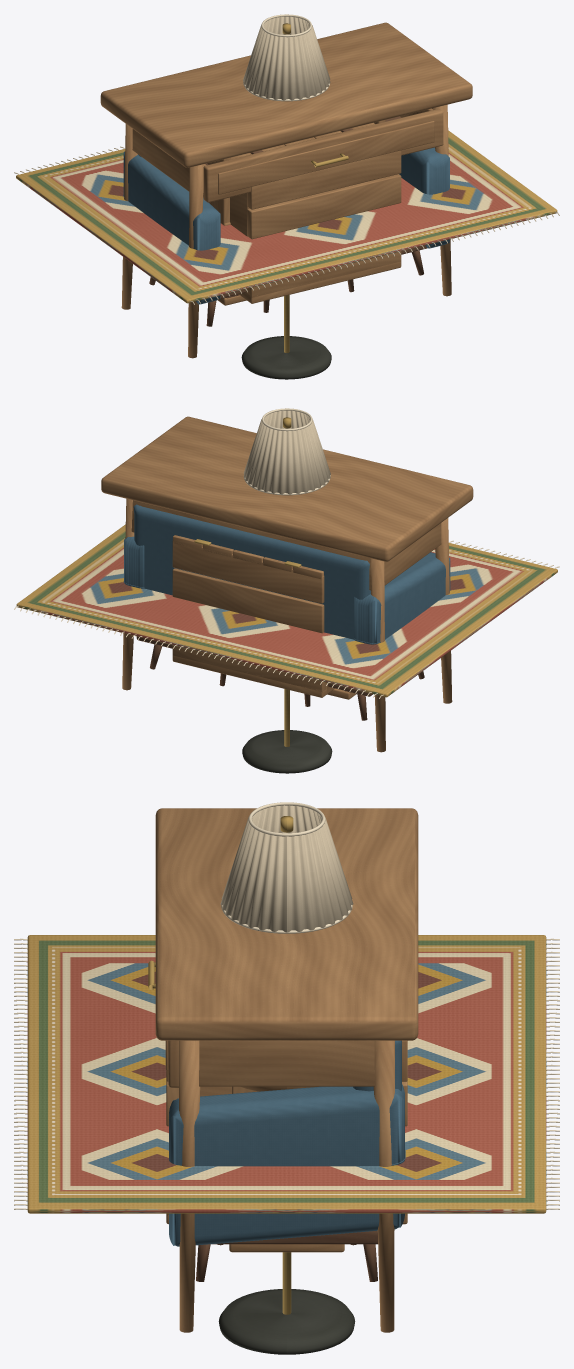
The model's file is tidy-furniture.glb.
3 renders of one model, top to bottom at view 1: azimuth 30°, elevation 25°; view 2: azimuth 150°, elevation 25°; view 3: azimuth 270°, elevation 25°, orthographic. The views are drawn at different scales.
Parts seen in each view (by area): view 1: rug_mesh, desk_mesh, crate_mesh, lamp_mesh, desk_drawer_mesh, sofa_mesh, shelf_mesh; view 2: desk_mesh, rug_mesh, sofa_mesh, crate_mesh, lamp_mesh, crate_lid_mesh; view 3: rug_mesh, desk_mesh, sofa_mesh, lamp_mesh, shelf_mesh, crate_mesh, desk_drawer_mesh.
Part boxes in pixels (x1,y1,x2,y2): rug_mesh: (14,130,559,304); desk_mesh: (100,22,472,358); crate_mesh: (230,150,401,303); lamp_mesh: (241,14,331,379); desk_drawer_mesh: (203,108,443,202); sofa_mesh: (123,147,449,326); shelf_mesh: (203,120,385,305); desk_mesh: (101,416,473,752); rug_mesh: (14,524,559,698); sofa_mesh: (123,504,450,720); crate_mesh: (172,540,334,697); lamp_mesh: (242,408,332,773); crate_lid_mesh: (173,535,323,579); rug_mesh: (14,935,559,1213); desk_mesh: (155,808,418,1332); sofa_mesh: (169,1040,405,1281); lamp_mesh: (218,802,355,1354); shelf_mesh: (229,1086,344,1252); crate_mesh: (166,1040,407,1224); desk_drawer_mesh: (148,960,178,1087).
Size of the model in its own units: 0.618 by 0.54 by 0.5203.
Materials: 20 (17 with a texture image).
